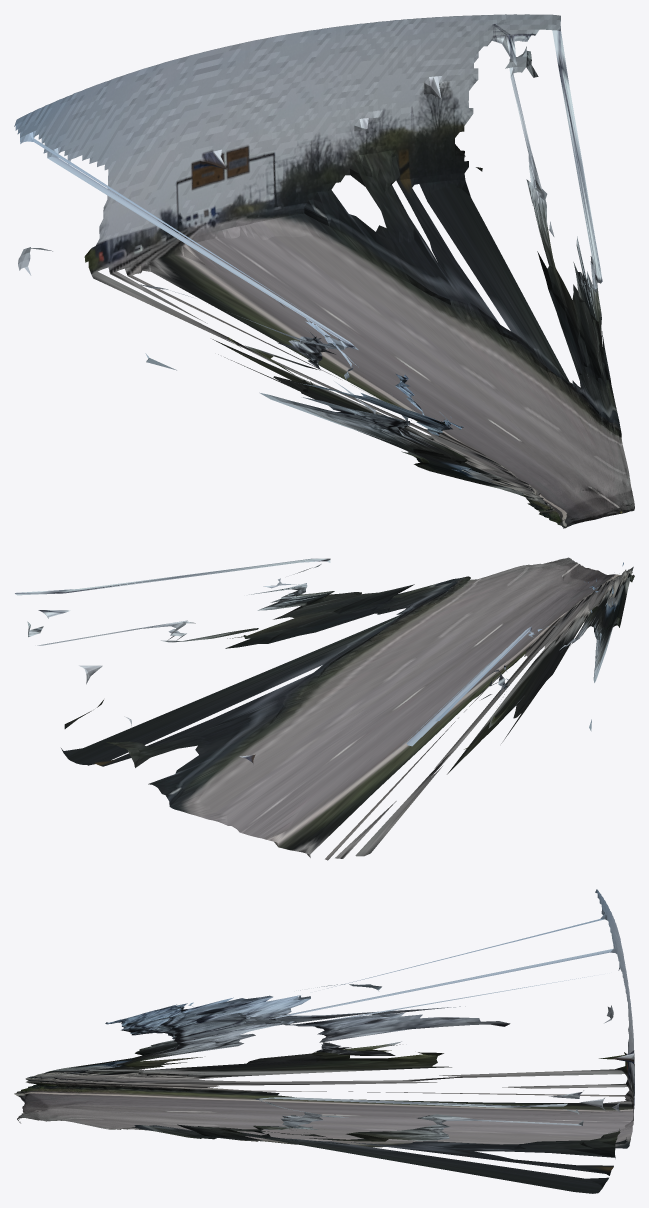
3 views of the same model, one above another, from view 1: azimuth 30°, elevation 25°; view 2: azimuth 150°, elevation 25°; view 3: azimuth 270°, elevation 25° (orthographic). The views are drawn at different scales.
Visible parts, largest first — view 1: defaultobject; view 2: defaultobject; view 3: defaultobject.
Boxes of the visible parts, x1,y1,x2,y2 form: defaultobject: (14, 14, 634, 528); defaultobject: (15, 557, 634, 860); defaultobject: (14, 889, 634, 1193).
Bounding box in the file's own units: 34.55 × 12.83 × 44.71.
1 material, 1 textured.
